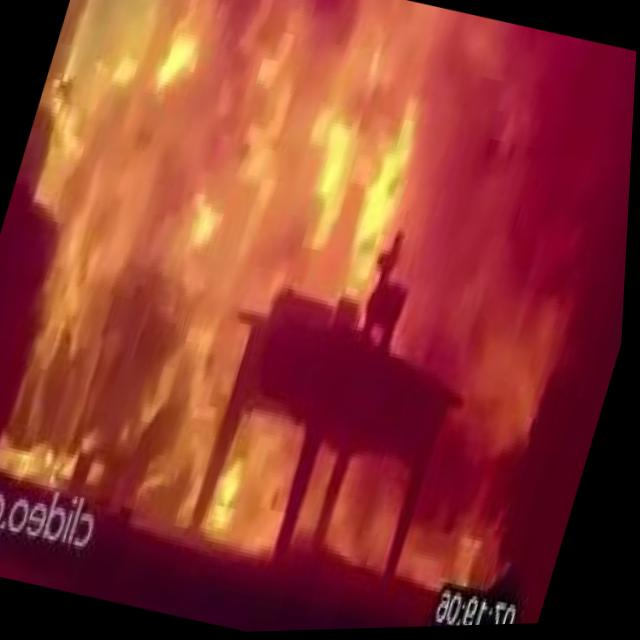fire: (0, 149, 294, 528), (168, 0, 454, 313), (14, 0, 249, 229), (442, 254, 583, 473), (208, 412, 313, 551), (326, 457, 416, 575), (399, 505, 507, 599), (289, 443, 346, 562)
